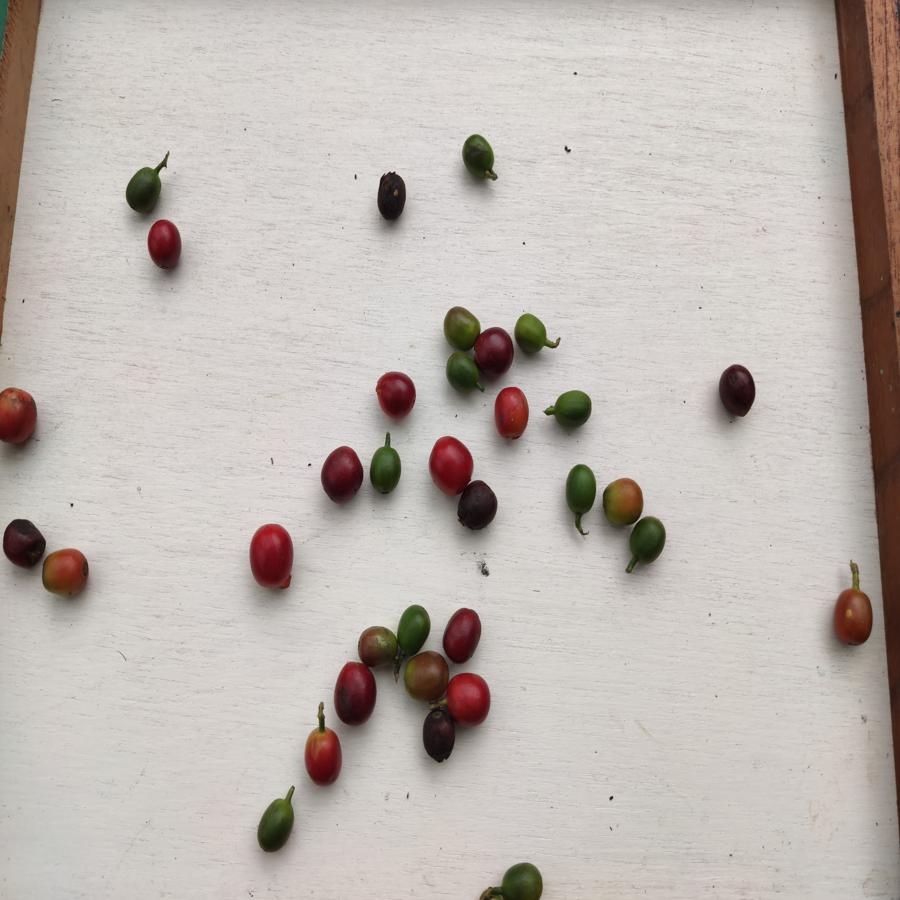Inmaduro: (255, 798, 299, 854), (489, 860, 549, 900), (461, 131, 500, 186), (123, 164, 164, 216), (631, 514, 669, 568), (368, 445, 406, 496), (442, 304, 480, 354), (394, 606, 433, 654), (550, 389, 594, 431), (566, 461, 598, 516), (512, 312, 552, 356), (441, 351, 477, 392)
Maduro: (246, 521, 299, 592), (449, 671, 496, 730), (429, 434, 473, 494), (374, 370, 422, 423), (303, 728, 344, 789), (491, 384, 534, 440), (147, 217, 187, 271)
Pinton: (41, 545, 93, 603), (1, 383, 44, 448), (829, 588, 876, 646), (404, 651, 448, 703), (603, 477, 643, 529), (357, 626, 398, 667)
Sobremaduro: (717, 361, 764, 423), (441, 601, 486, 663), (332, 664, 379, 723), (319, 444, 366, 503), (3, 514, 46, 569), (421, 702, 455, 770), (458, 478, 501, 531), (374, 166, 409, 224), (475, 329, 516, 375)
